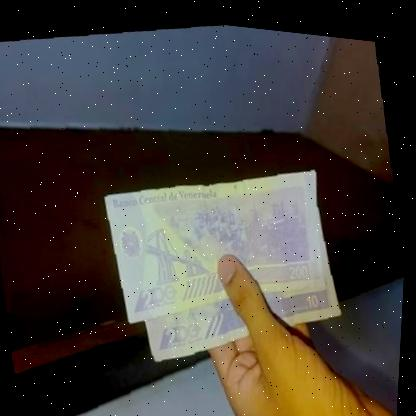two_hundred-back-vef: (98, 142, 341, 340)
